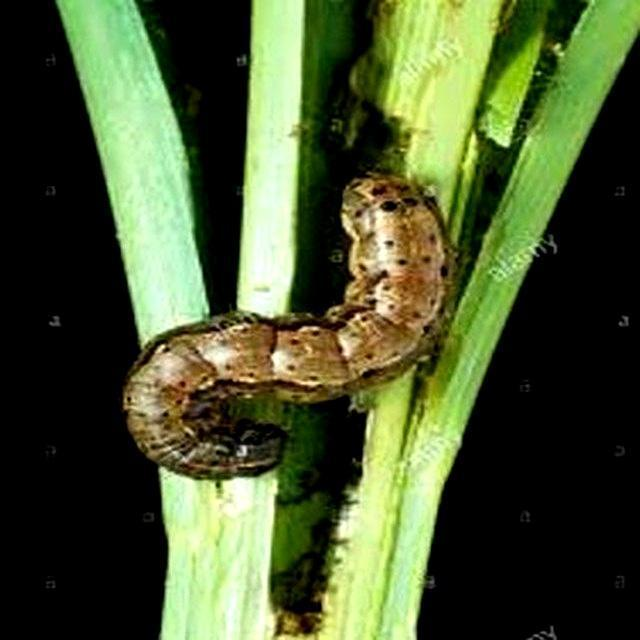gusano_cogollero: (119, 160, 459, 482)
